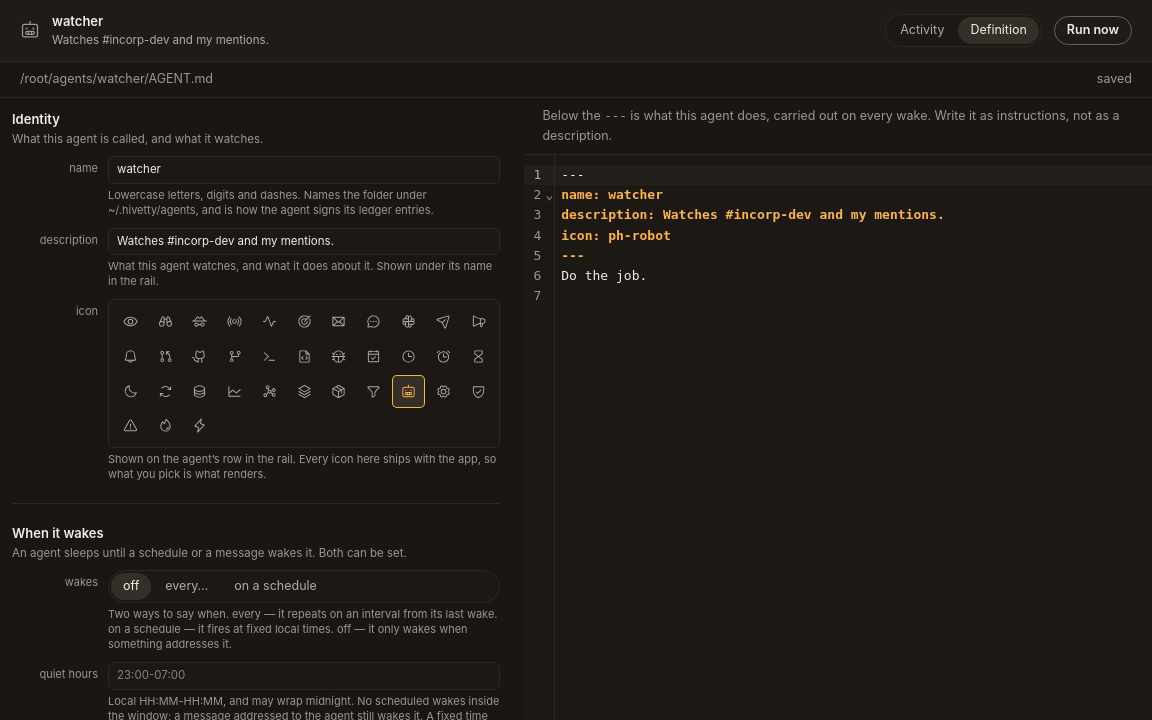
Test: AgentPage — Run now › Run now on a dirty draft refuses with today's sentence in the footer
Expected: the field named "name" is shown, [108,156,500,184]
Type "!" into the field named "description" at (304, 241), box [108,228,500,255]
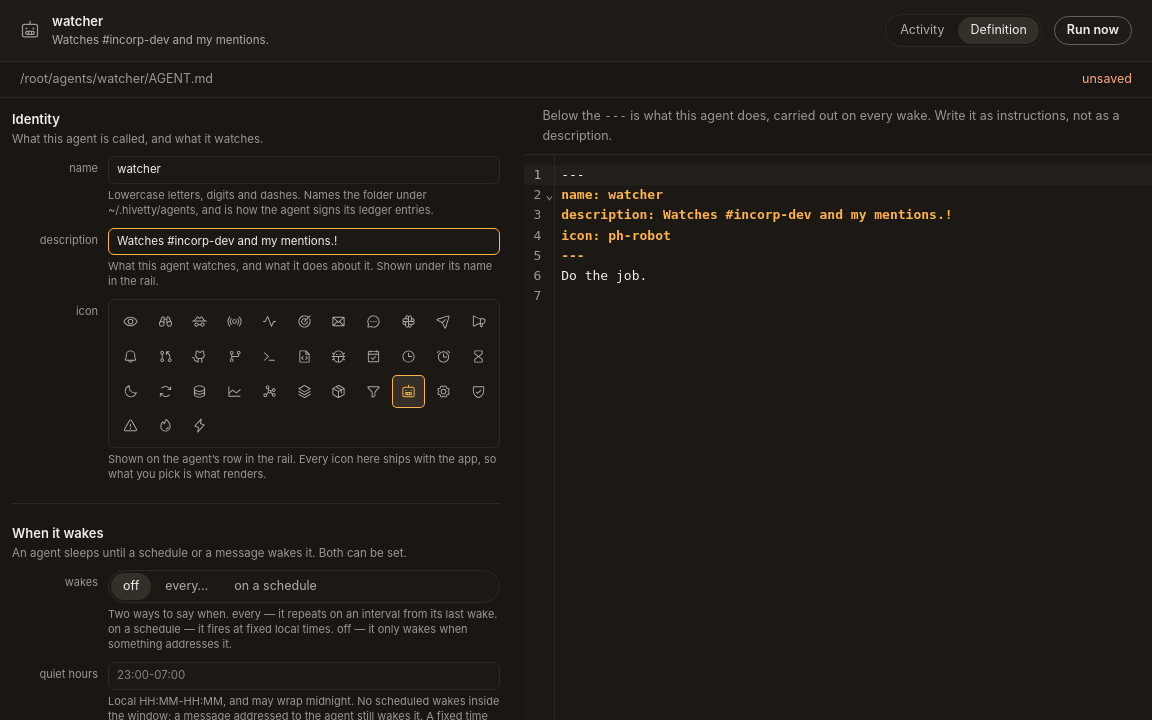
Click the button "Run now" at (1093, 30), box [1054,16,1132,45]
(page scrolled)
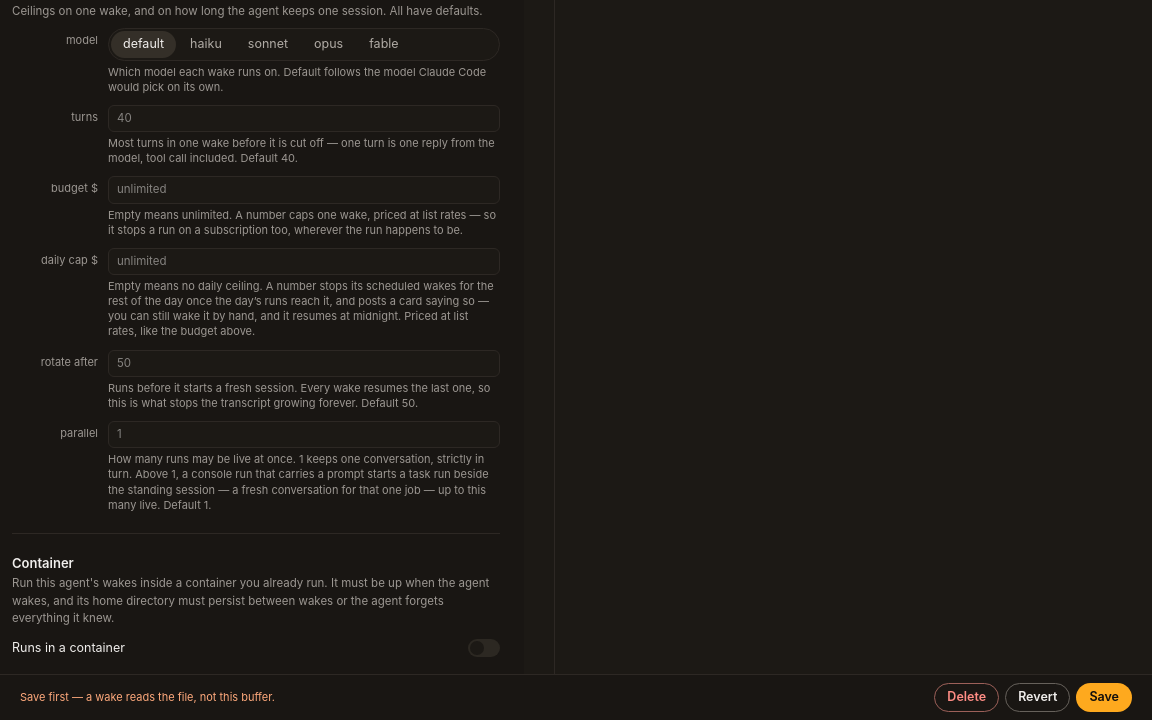
Expected: the message reads "Save first — a wake reads the file, not this buffer.", [20,690,275,704]
